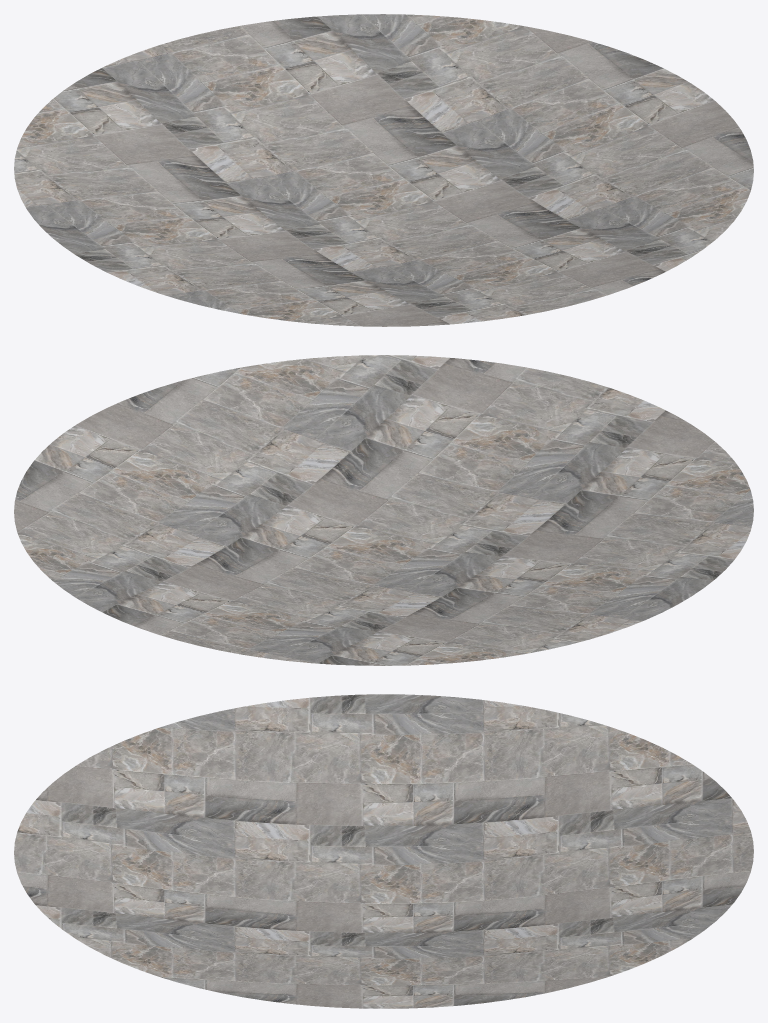
The model's file is modern_grey_stone_tile_texture.glb.
3 views of the same model, one above another, from view 1: azimuth 30°, elevation 25°; view 2: azimuth 150°, elevation 25°; view 3: azimuth 270°, elevation 25° (orthographic).
Visible parts, largest first — view 1: Object_2; view 2: Object_2; view 3: Object_2.
Boxes of the visible parts, x1,y1,x2,y2 form: Object_2: (14, 14, 753, 326); Object_2: (14, 355, 753, 665); Object_2: (14, 694, 753, 1008).
Size of the model in its own units: 1316 by 67 by 1316.
1 material, 1 textured.
